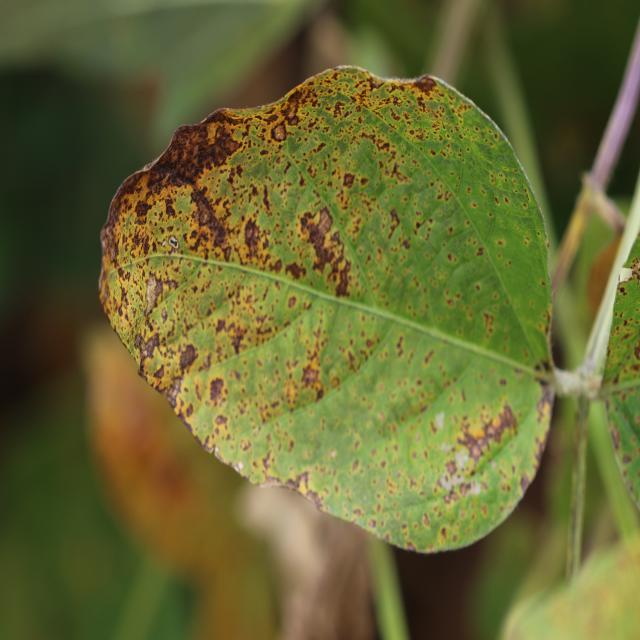Bacterial_Blight: (401, 96, 467, 154), (301, 353, 331, 408), (482, 403, 518, 447), (274, 237, 306, 283), (173, 332, 198, 377), (199, 107, 240, 128), (244, 216, 262, 257), (194, 198, 215, 227), (138, 334, 158, 363), (335, 262, 351, 296), (537, 387, 552, 422), (533, 357, 554, 381), (208, 376, 225, 405), (316, 207, 333, 235), (303, 489, 324, 511), (413, 75, 438, 93), (230, 328, 246, 355), (387, 207, 401, 237), (134, 199, 150, 220), (262, 184, 273, 214), (163, 196, 177, 219), (482, 311, 496, 333), (454, 449, 469, 469), (610, 424, 621, 450), (214, 413, 229, 431), (390, 162, 405, 180), (271, 124, 286, 141), (471, 439, 484, 458), (433, 411, 445, 431), (215, 317, 227, 335), (342, 172, 355, 188), (332, 101, 345, 116), (423, 349, 435, 365), (285, 105, 297, 121), (632, 262, 640, 284), (368, 77, 380, 91), (168, 236, 179, 250), (613, 369, 622, 383), (161, 307, 168, 323), (619, 285, 628, 296), (623, 453, 632, 464), (352, 459, 360, 471), (440, 526, 447, 538), (476, 246, 484, 256), (617, 309, 625, 319), (330, 448, 337, 459), (237, 460, 244, 471), (503, 196, 510, 205), (494, 195, 500, 204)
Soybean: (100, 67, 560, 553)
